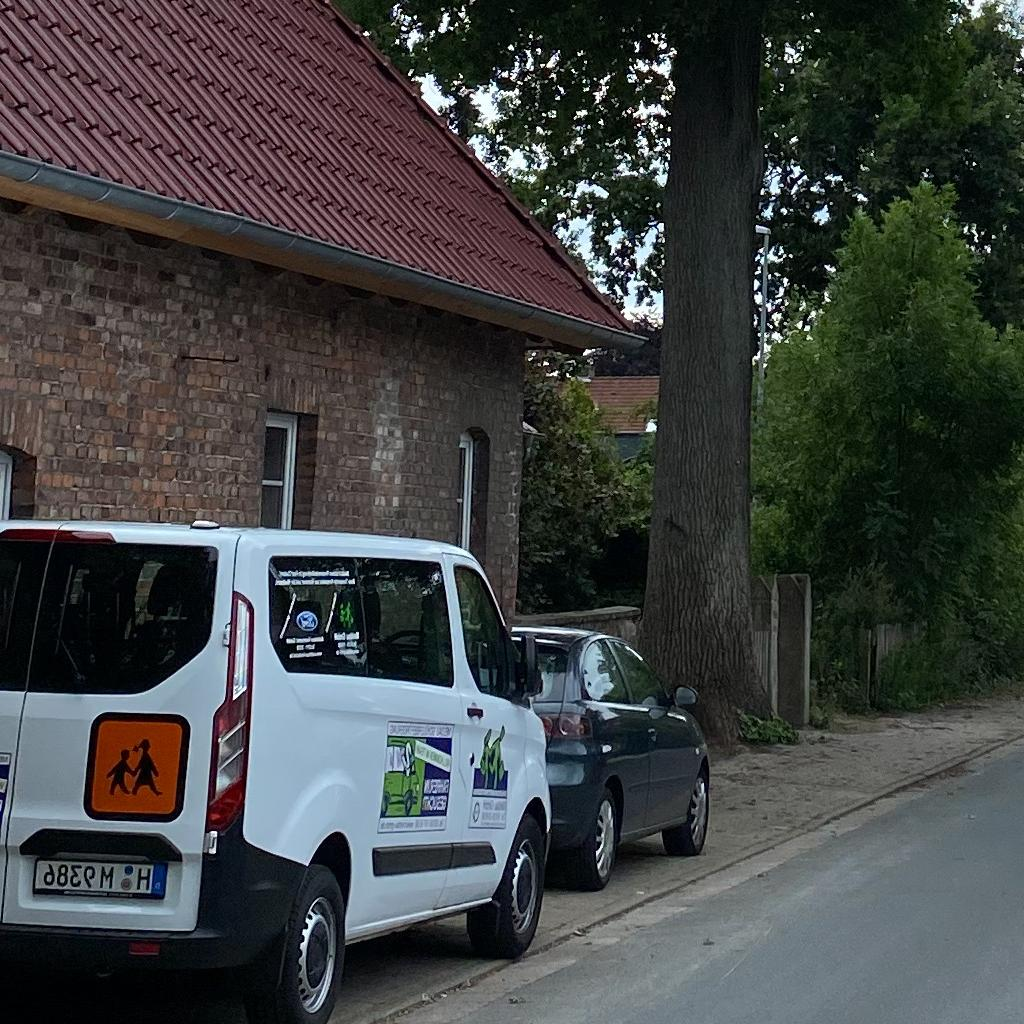tree: (329, 1, 975, 736), (757, 1, 1024, 335)
